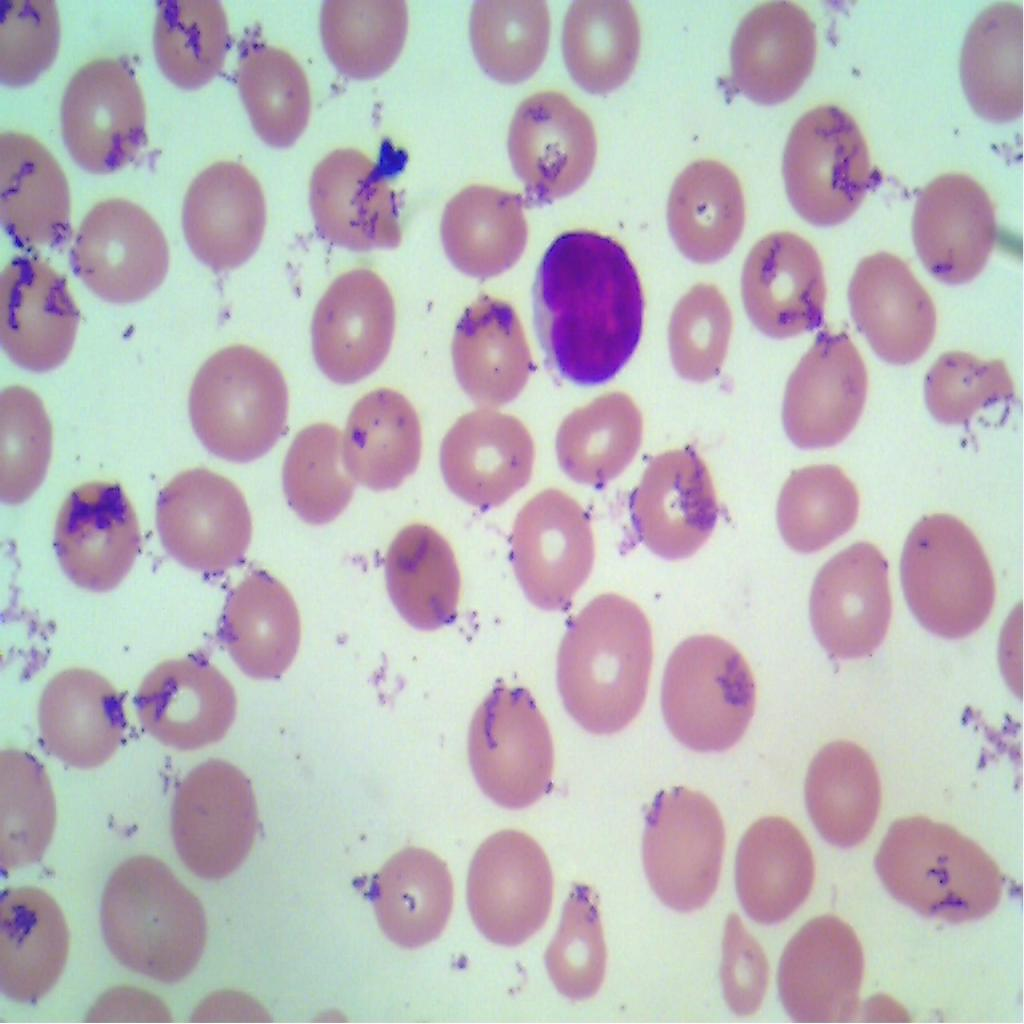Eritrosit: (654, 622, 770, 771), (164, 755, 281, 897), (880, 809, 1006, 930), (906, 158, 1019, 288), (558, 591, 654, 740), (894, 512, 1002, 639), (468, 674, 563, 817), (373, 511, 476, 639), (781, 103, 879, 237), (634, 781, 730, 914), (510, 88, 606, 221), (628, 442, 738, 556), (726, 802, 823, 931), (153, 464, 258, 581), (843, 244, 936, 376), (188, 344, 290, 462), (444, 284, 543, 405), (458, 824, 553, 950), (778, 331, 878, 450), (430, 401, 538, 511), (911, 344, 1023, 450), (298, 268, 402, 382), (55, 54, 153, 174), (363, 837, 459, 958), (306, 147, 413, 255), (434, 174, 535, 288), (506, 484, 598, 608), (128, 655, 242, 754), (736, 234, 838, 344), (808, 536, 894, 666), (50, 475, 141, 597), (213, 568, 304, 690), (73, 194, 170, 307), (34, 666, 131, 778), (719, 2, 821, 106), (776, 909, 866, 1023), (0, 253, 86, 372), (658, 148, 746, 264), (554, 380, 644, 490), (178, 161, 269, 269), (464, 0, 561, 100), (546, 881, 623, 1005), (344, 385, 426, 501), (0, 130, 78, 251), (763, 458, 864, 550), (808, 737, 886, 854), (279, 418, 359, 531), (0, 885, 75, 1004), (557, 0, 646, 100), (235, 40, 313, 152), (146, 0, 236, 94), (958, 8, 1023, 138), (315, 0, 410, 84), (666, 278, 734, 392), (711, 904, 774, 1018)
Limfosit: (531, 227, 644, 388)
